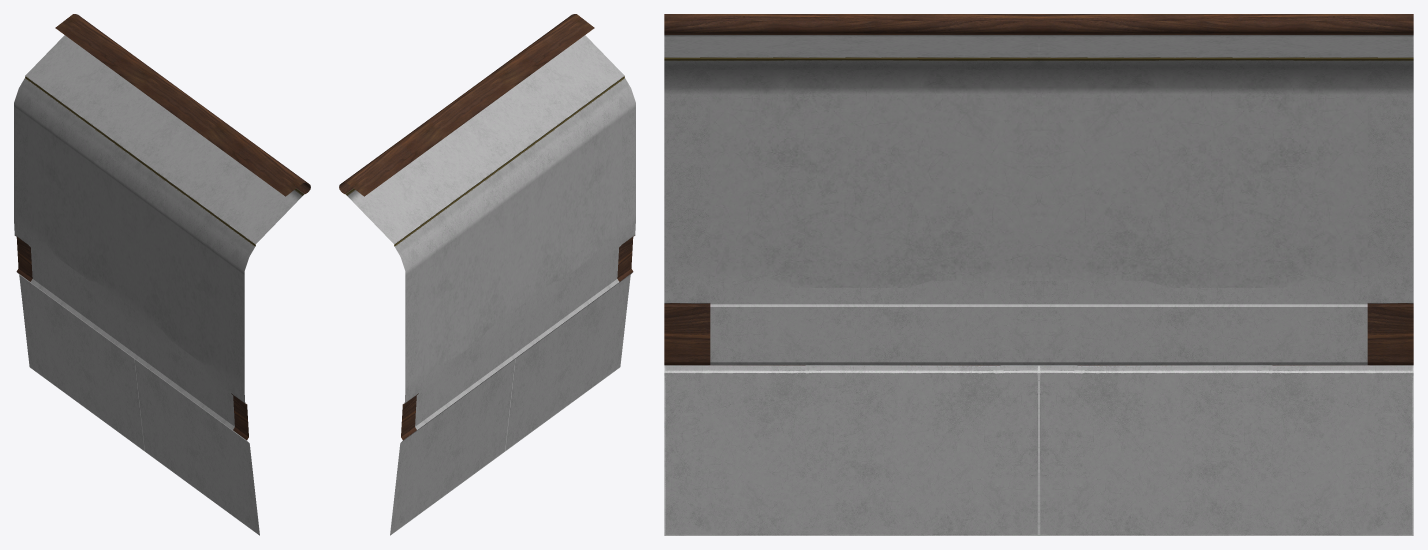
File: plane_interior_wall_windowless.dae
The picture shows the model from 3 angles, left to right: view 1: azimuth 30°, elevation 25°; view 2: azimuth 150°, elevation 25°; view 3: azimuth 270°, elevation 25°; orthographic projection. The views are drawn at different scales.
Parts seen in each view (by area): view 1: plane_interior_wall_windowless; view 2: plane_interior_wall_windowless; view 3: plane_interior_wall_windowless.
Boxes of the visible parts, <box> form: plane_interior_wall_windowless: <box>14,14,310,535</box>; plane_interior_wall_windowless: <box>339,14,635,535</box>; plane_interior_wall_windowless: <box>664,14,1413,535</box>.
Bounding box in the file's own units: 33.22 × 164 × 200.
